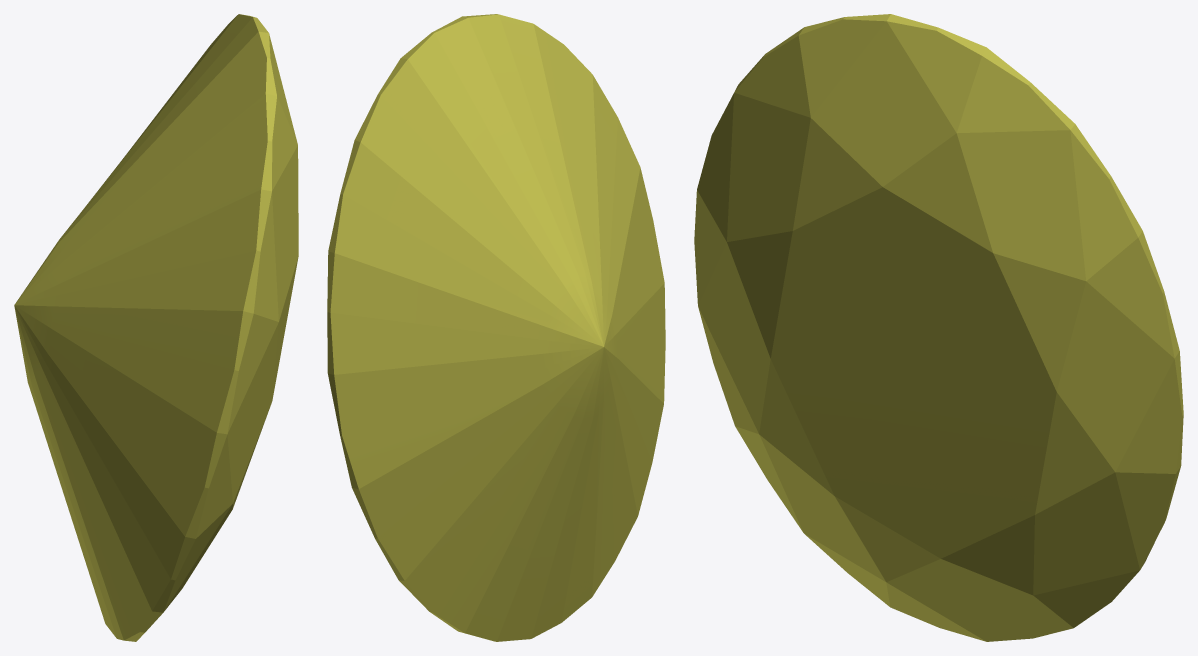
Rendered from TR5_8shapes_Oval_Classic_Stone.001 2.glb.
3 views of the same model, side by side, from view 1: azimuth 30°, elevation 25°; view 2: azimuth 150°, elevation 25°; view 3: azimuth 270°, elevation 25° (orthographic). The views are drawn at different scales.
Visible parts, largest first — view 1: TR5_8shapes_Oval_Classic_Stone.001; view 2: TR5_8shapes_Oval_Classic_Stone.001; view 3: TR5_8shapes_Oval_Classic_Stone.001.
Part boxes in pixels (box(x1,y1,x2,y2)): TR5_8shapes_Oval_Classic_Stone.001: box(14, 14, 298, 641); TR5_8shapes_Oval_Classic_Stone.001: box(327, 14, 665, 641); TR5_8shapes_Oval_Classic_Stone.001: box(694, 14, 1183, 641).
Bounding box in the file's own units: 0.2441 × 0.5612 × 0.364.
